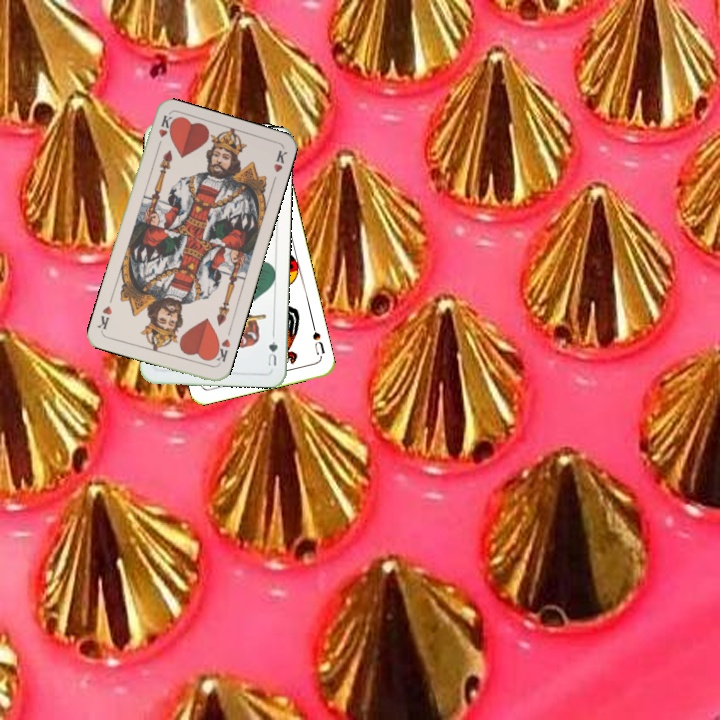GU: (264, 337, 280, 370)
HK: (153, 112, 175, 152), (209, 335, 233, 367)
SU: (308, 321, 328, 357)
